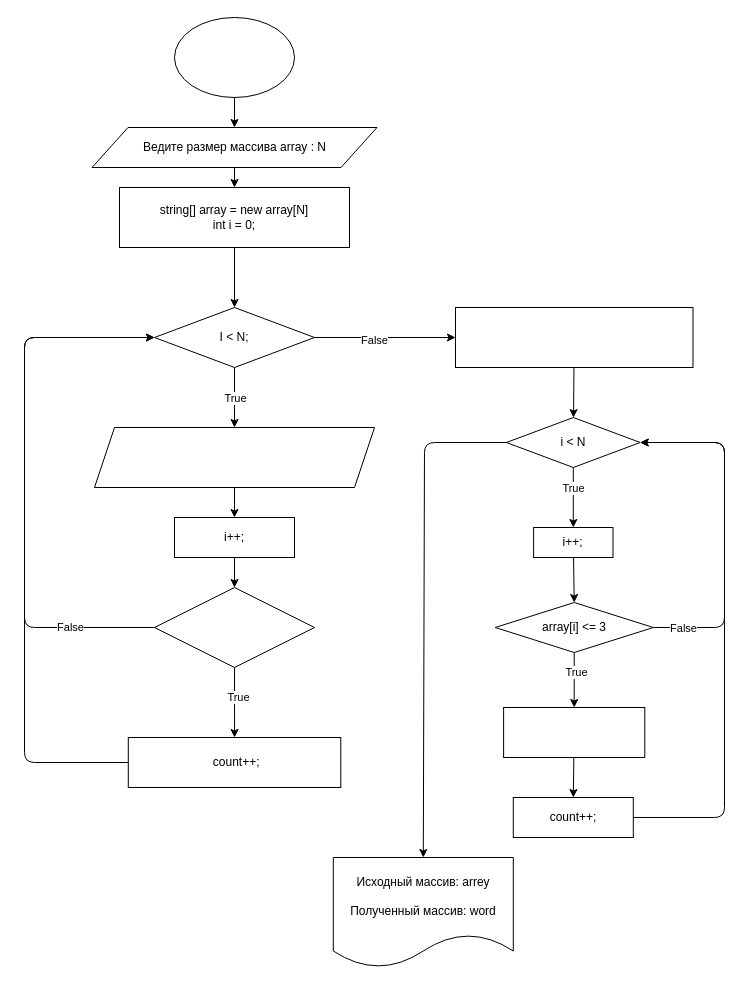
Image size: 750x985. Some labels were removed from this diagram. The box of each missing label's shape, as (x1, y1, x2, y2) in pixels:
array[ii].Length <= 3: (154, 586, 314, 668)
Start: (174, 16, 294, 98)
string[] word = new string[count]; count = 0;: (454, 306, 693, 368)
word[count] = array[i]: (503, 706, 645, 758)
Введите элементы массива array: array[i]: (94, 426, 374, 488)
